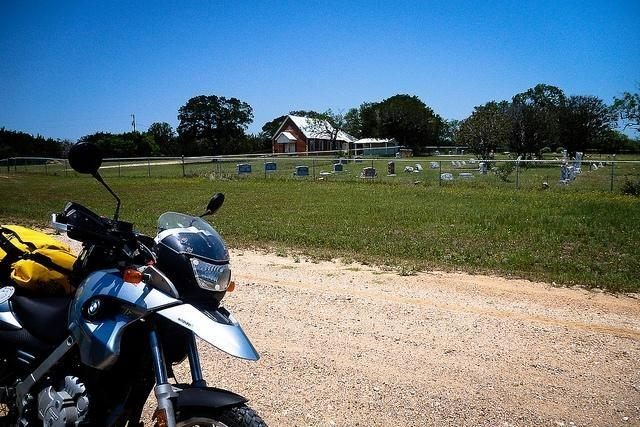motorcycle: (2, 142, 269, 422)
